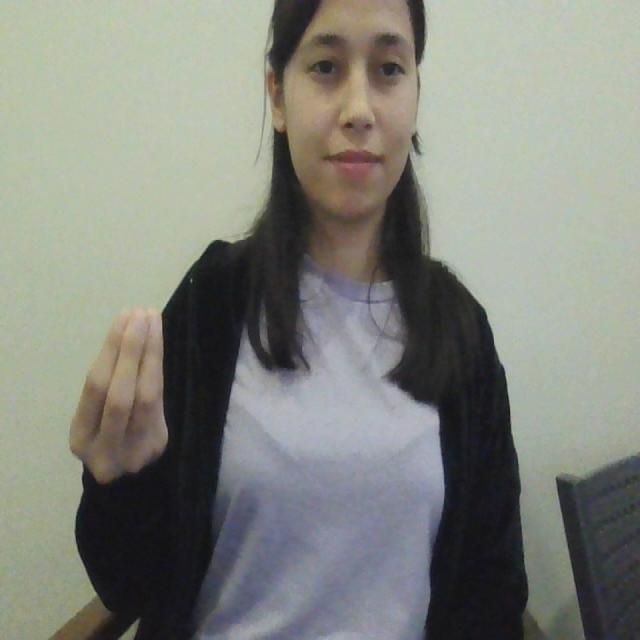iyi: (70, 302, 174, 482)
